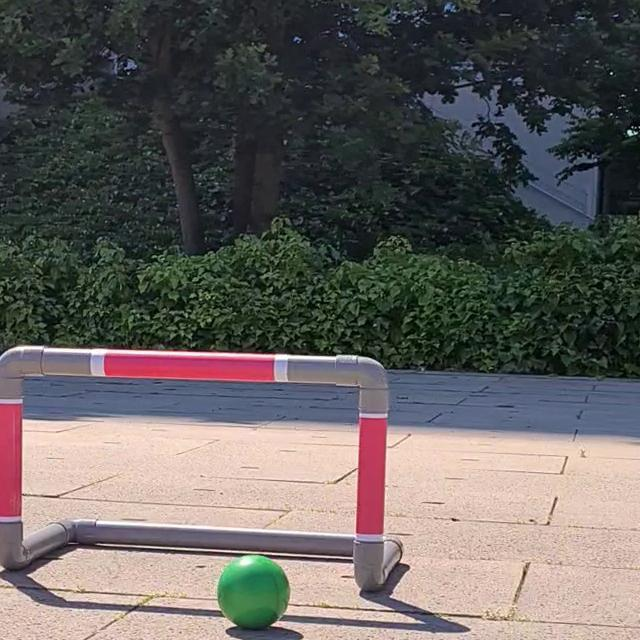ball: (215, 553, 292, 630)
